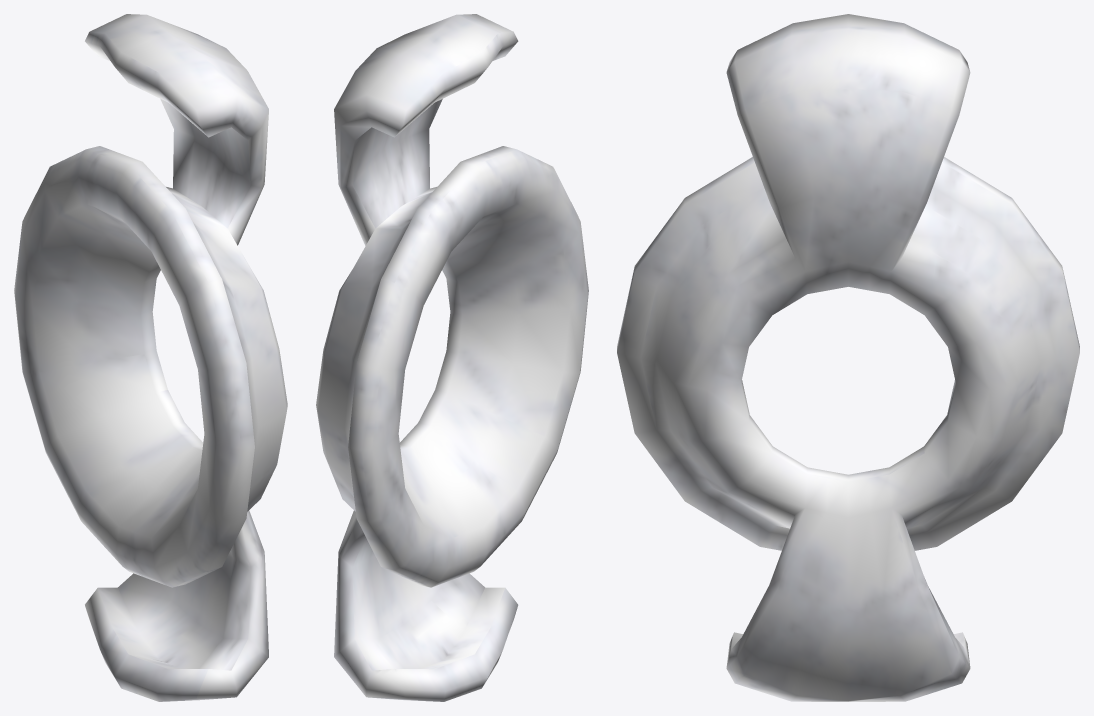
Rendered from Disktangible_Shell.fbx.
3 renders of one model, left to right at view 1: azimuth 30°, elevation 25°; view 2: azimuth 150°, elevation 25°; view 3: azimuth 270°, elevation 25°, orthographic. The views are drawn at different scales.
Parts seen in each view (by area): view 1: Disktangible_Shell; view 2: Disktangible_Shell; view 3: Disktangible_Shell.
Part boxes in pixels (x1,y1,x2,y2): Disktangible_Shell: (14, 14, 287, 701); Disktangible_Shell: (316, 14, 588, 701); Disktangible_Shell: (617, 14, 1079, 701).
Size of the model in its own units: 10.12 by 48.66 by 30.33.
